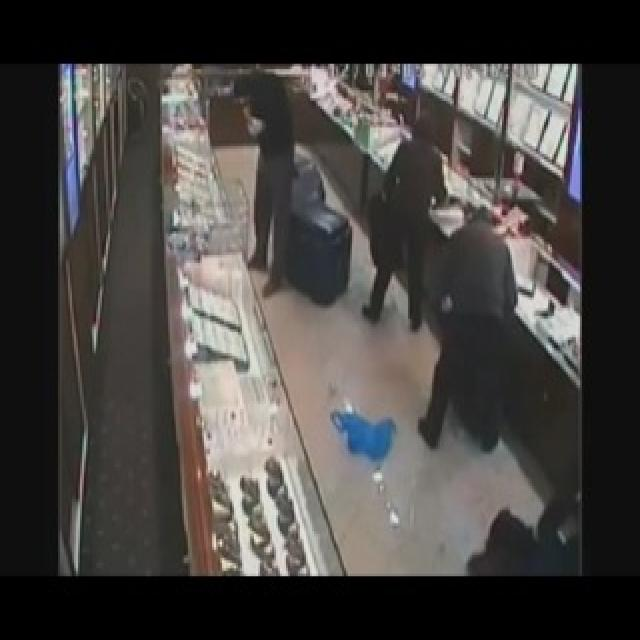thief: (375, 121, 502, 382), (219, 70, 347, 324)
